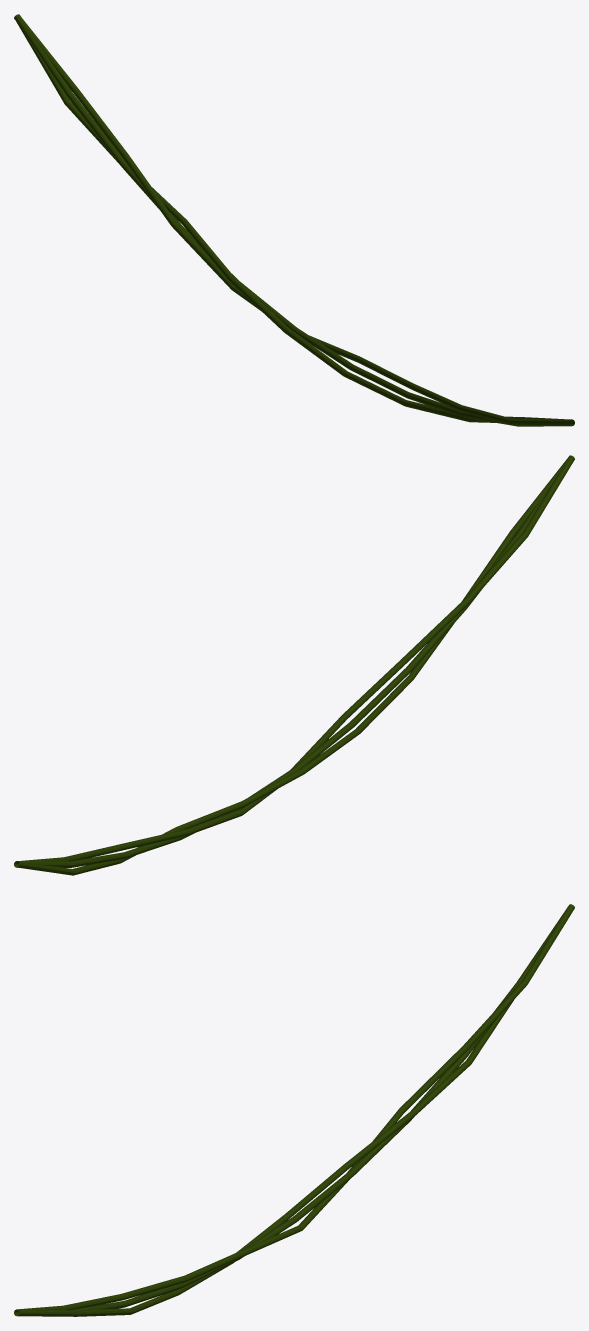
File: vine.fbx
3 renders of one model, top to bottom at view 1: azimuth 30°, elevation 25°; view 2: azimuth 150°, elevation 25°; view 3: azimuth 330°, elevation 25°, orthographic.
Parts seen in each view (by area): view 1: pCylinder8; view 2: pCylinder8; view 3: pCylinder8.
Part boxes in pixels (x1,y1,x2,y2): pCylinder8: [14, 14, 574, 426]; pCylinder8: [14, 455, 574, 875]; pCylinder8: [14, 904, 574, 1316].
Bounding box in the file's own units: 1303 × 7487 × 61546.
